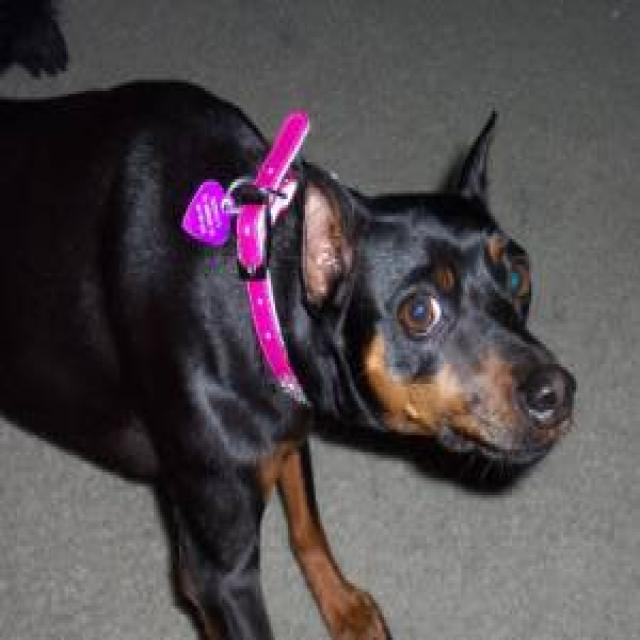dog-miniature_pinscher: (2, 60, 585, 634)
